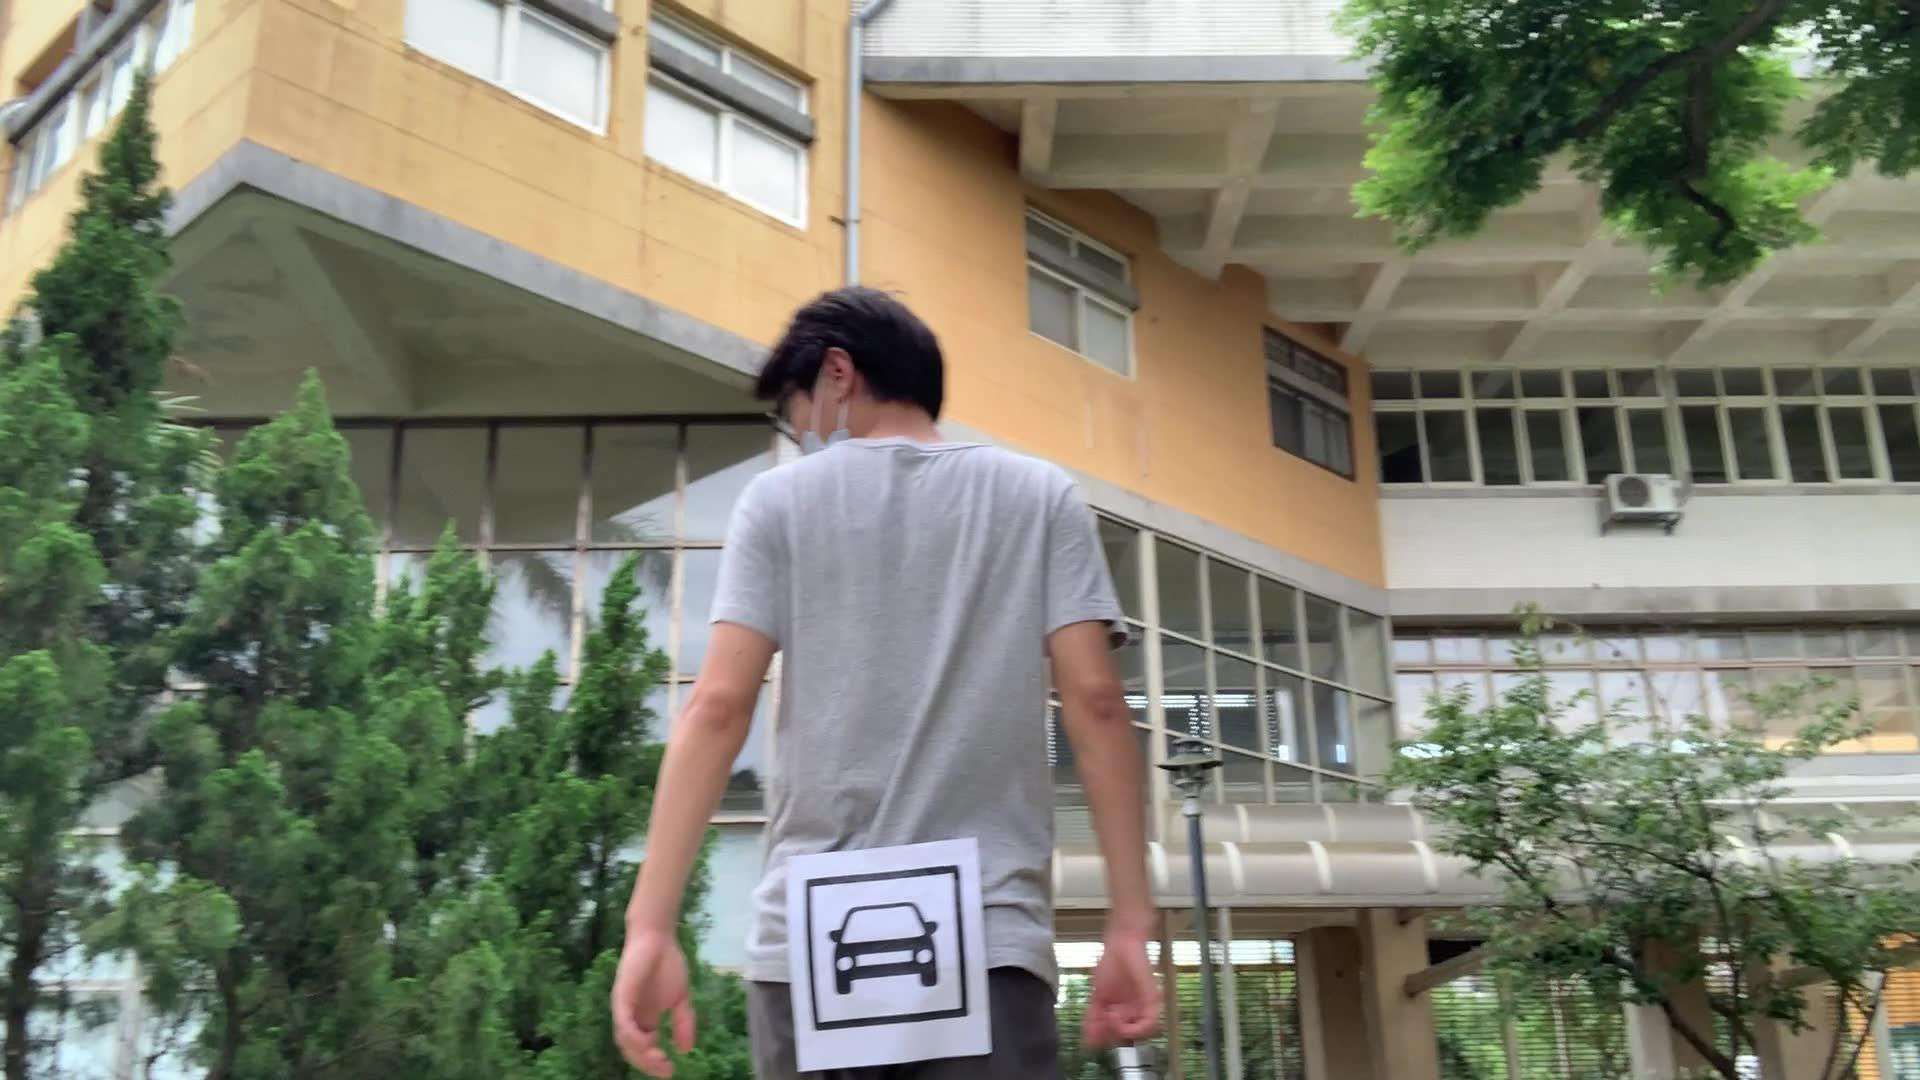car_img: (806, 864, 968, 1031)
